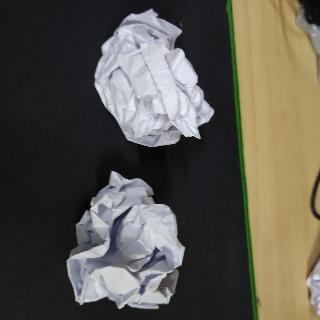8/可回收垃圾/纸: (92, 7, 214, 147), (66, 170, 185, 311)
